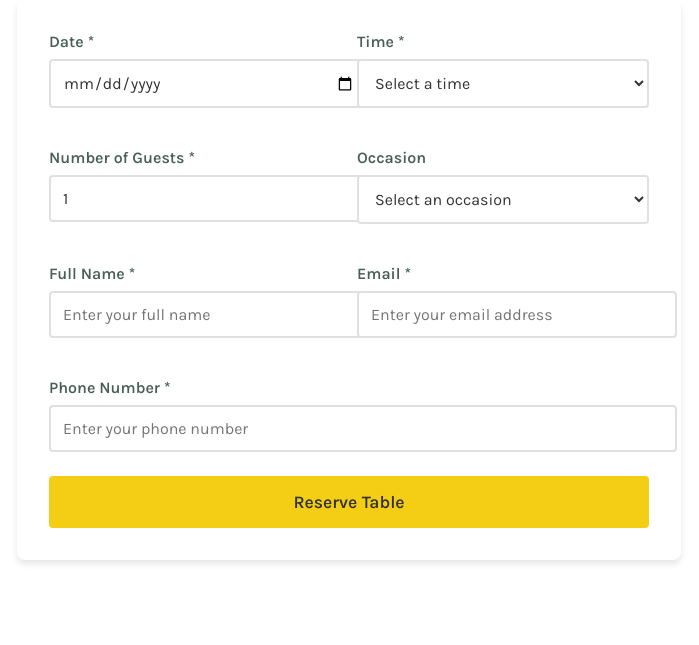
Test: BookingForm Component › shows validation errors for empty required fields
Click the button "Reserve Table".
click(349, 502)  # box [49,476,649,528]
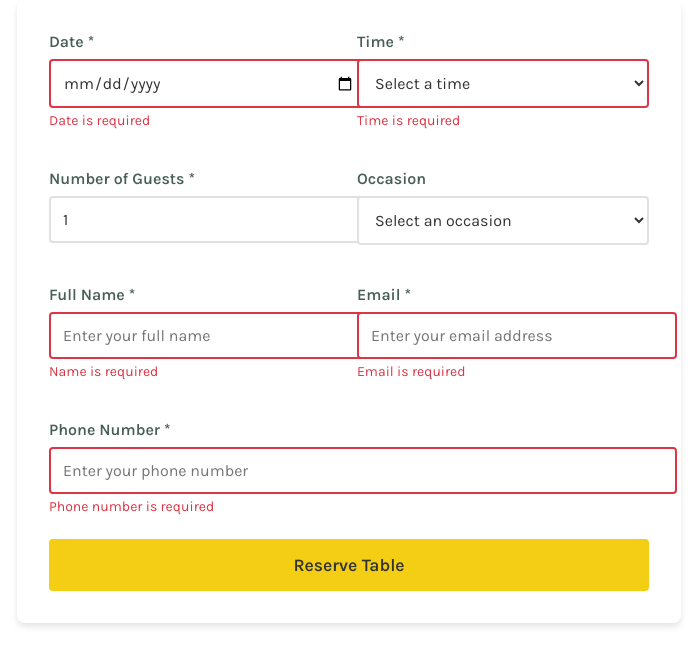
Result: the text "Date is required" is shown at [49,112,150,129]
Result: the text "Time is required" is shown at [357,112,460,129]
Result: the text "Name is required" is shown at [49,363,158,380]
